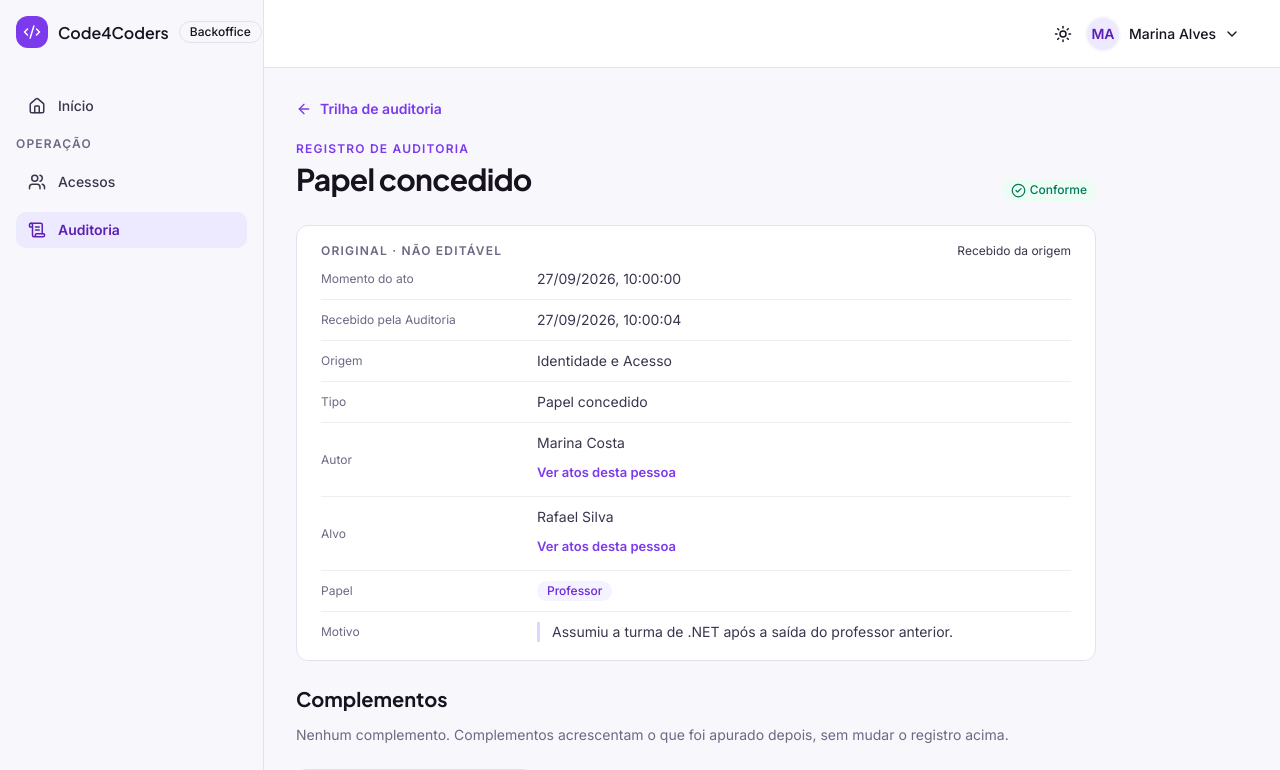
Test: AuditRecordDetail › filters by the selected person in navigation state and keeps the UUID out of the URL
Step 1. Click the button with aria-label "Ver atos desta pessoa (autor)" → click(606, 472), box left=537, top=458, right=676, bottom=486
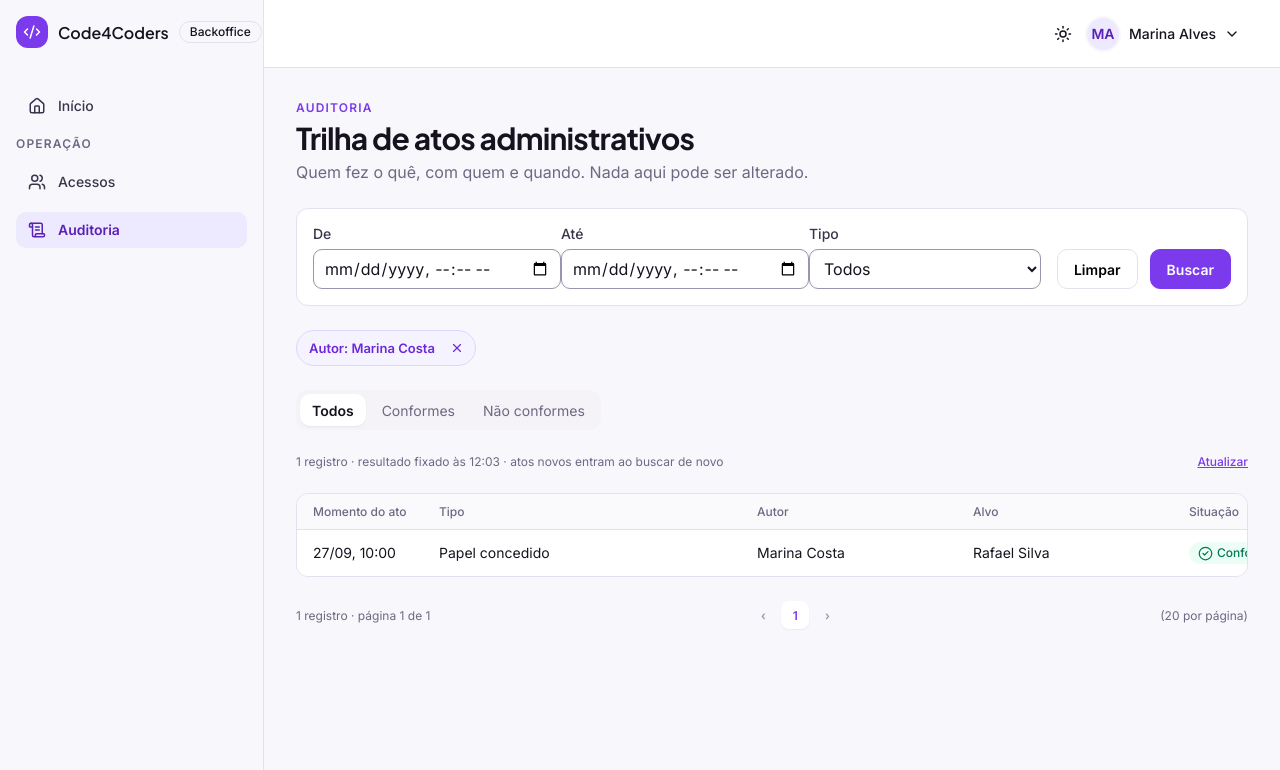
Check: the text "Autor: Marina Costa" is shown, box left=309, top=340, right=435, bottom=356
